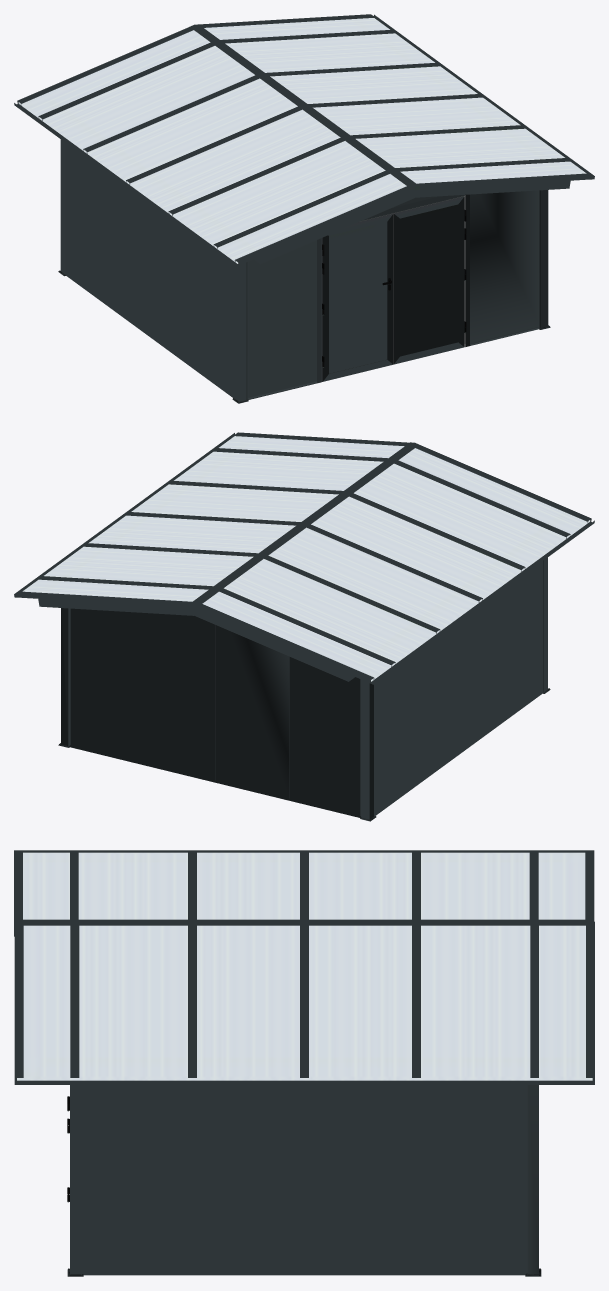
3 renders of one model, top to bottom at view 1: azimuth 30°, elevation 25°; view 2: azimuth 150°, elevation 25°; view 3: azimuth 270°, elevation 25°, orthographic. The views are drawn at different scales.
Parts seen in each view (by area): view 1: priximbattable_net_abris_de_jardin_640004_abri_de_jardin_orc, folha, folha_2, porta_1; view 2: priximbattable_net_abris_de_jardin_640004_abri_de_jardin_orc; view 3: priximbattable_net_abris_de_jardin_640004_abri_de_jardin_orc.
Part boxes in pixels (bbox=[...]): priximbattable_net_abris_de_jardin_640004_abri_de_jardin_orc: bbox=[14, 14, 594, 403]; folha: bbox=[393, 196, 466, 364]; folha_2: bbox=[322, 213, 393, 381]; porta_1: bbox=[317, 194, 469, 383]; priximbattable_net_abris_de_jardin_640004_abri_de_jardin_orc: bbox=[14, 432, 594, 821]; priximbattable_net_abris_de_jardin_640004_abri_de_jardin_orc: bbox=[14, 850, 594, 1276].
Size of the model in its own units: 489 by 252 by 521.
Materials: 1 (1 with a texture image).
